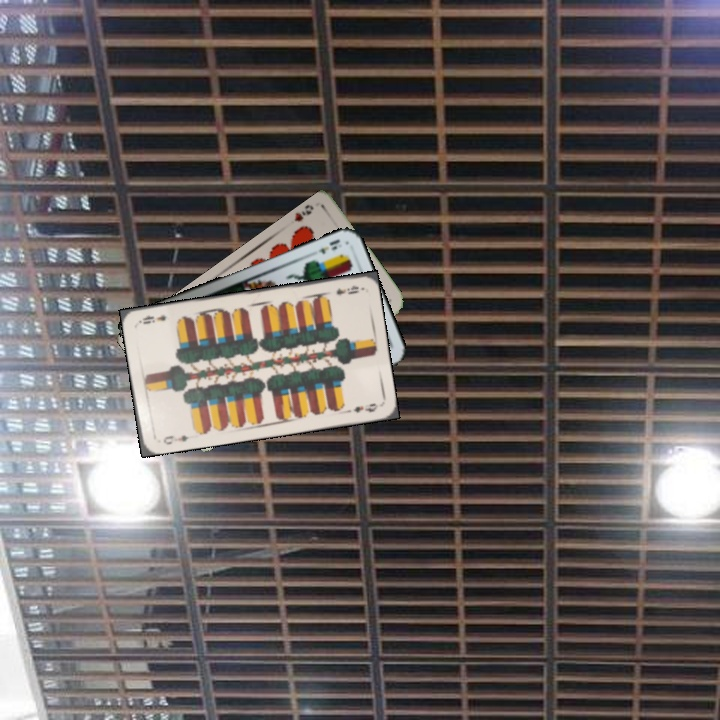E9: (159, 431, 191, 447), (332, 281, 362, 298)
EK: (314, 235, 342, 257)
H9: (290, 201, 316, 224)
